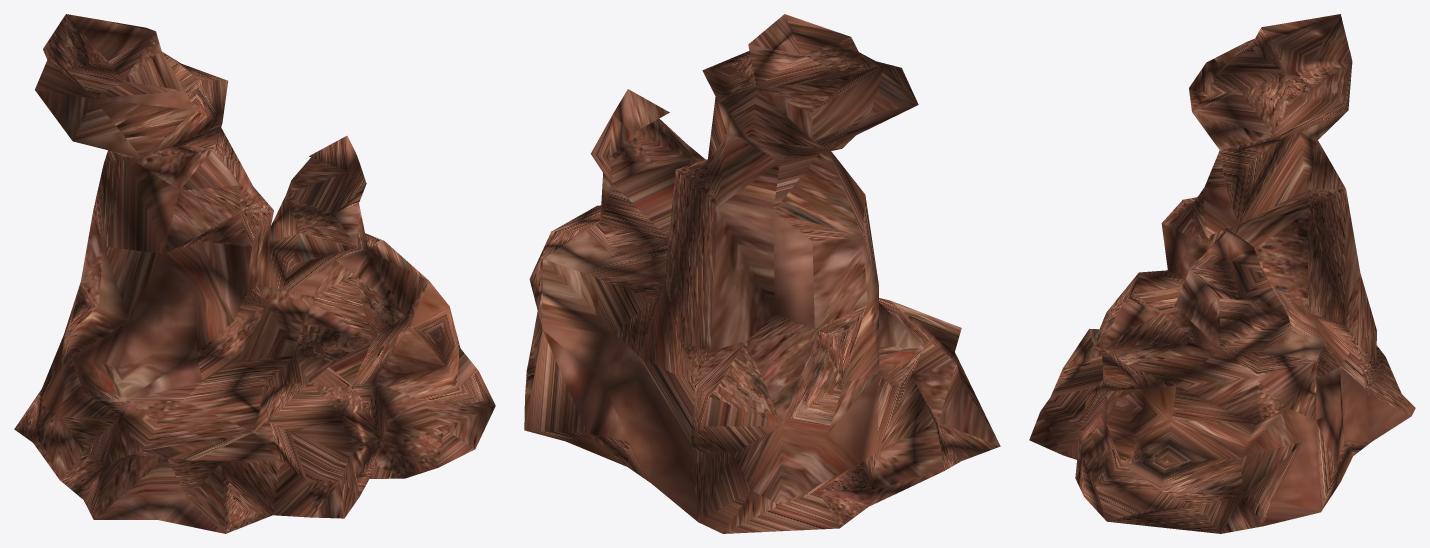
Rendered from Desert_Mushroom_Rock.glb.
3 renders of one model, left to right at view 1: azimuth 30°, elevation 25°; view 2: azimuth 150°, elevation 25°; view 3: azimuth 270°, elevation 25°, orthographic. The views are drawn at different scales.
Visible parts, largest first — view 1: Desert_Mushroom_Rock; view 2: Desert_Mushroom_Rock; view 3: Desert_Mushroom_Rock.
Part boxes in pixels (x1=…): Desert_Mushroom_Rock: x1=14, y1=14, x2=495, y2=533; Desert_Mushroom_Rock: x1=524, y1=14, x2=1000, y2=533; Desert_Mushroom_Rock: x1=1029, y1=14, x2=1415, y2=533.
Bounding box in the file's own units: 1.87 × 1.87 × 1.72.
Materials: 1 (1 with a texture image).
